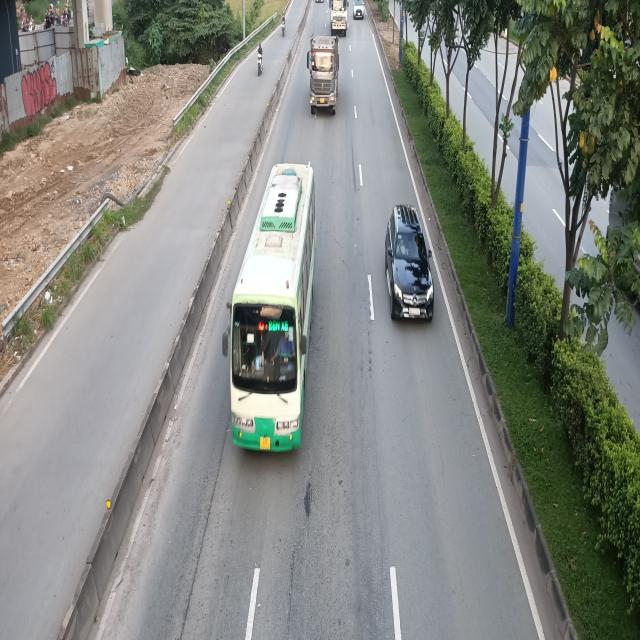car: (386, 204, 436, 326)
coach: (222, 166, 317, 456)
container: (306, 38, 338, 116)
